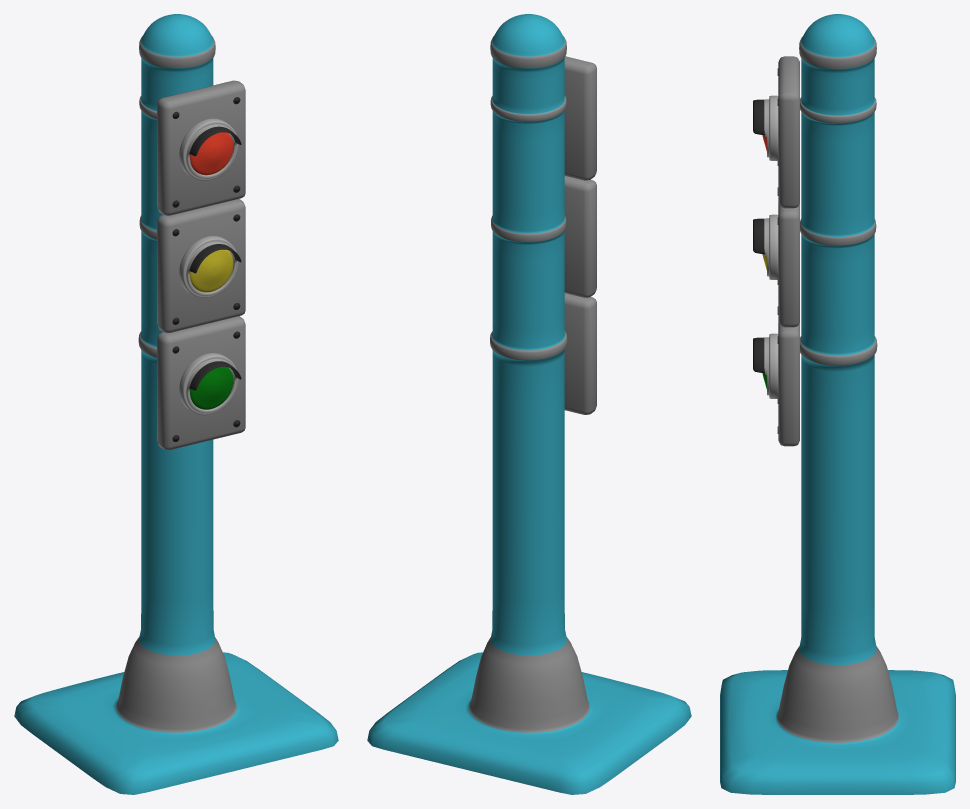
Rendered from trafficLight-v2.glb.
The picture shows the model from 3 angles, left to right: view 1: azimuth 30°, elevation 25°; view 2: azimuth 150°, elevation 25°; view 3: azimuth 270°, elevation 25°; orthographic projection.
Visible parts, largest first — view 1: Pole, Cube, Cube.004, Cube.006, Cylinder.004, Cylinder.013, Cylinder.018; view 2: Pole, Cube, Cube.004, Cube.006; view 3: Pole, Cube, Cube.004, Cube.006, Cylinder.004, Cylinder.018, Cylinder.013.
Part boxes in pixels (<box>): Pole: <box>14,14,338,794</box>; Cube: <box>157,80,245,215</box>; Cube.004: <box>157,199,245,332</box>; Cube.006: <box>157,316,245,450</box>; Cylinder.004: <box>179,118,241,180</box>; Cylinder.013: <box>179,235,241,297</box>; Cylinder.018: <box>179,353,241,415</box>; Pole: <box>367,14,691,794</box>; Cube: <box>564,56,596,180</box>; Cube.004: <box>564,176,596,297</box>; Cube.006: <box>564,293,596,414</box>; Pole: <box>720,14,955,794</box>; Cube: <box>778,56,799,208</box>; Cube.004: <box>778,203,799,327</box>; Cube.006: <box>778,322,799,446</box>; Cylinder.004: <box>753,95,778,160</box>; Cylinder.018: <box>753,333,778,398</box>; Cylinder.013: <box>753,214,778,279</box>.
Size of the model in its own units: 3.64 by 10.87 by 3.22.
